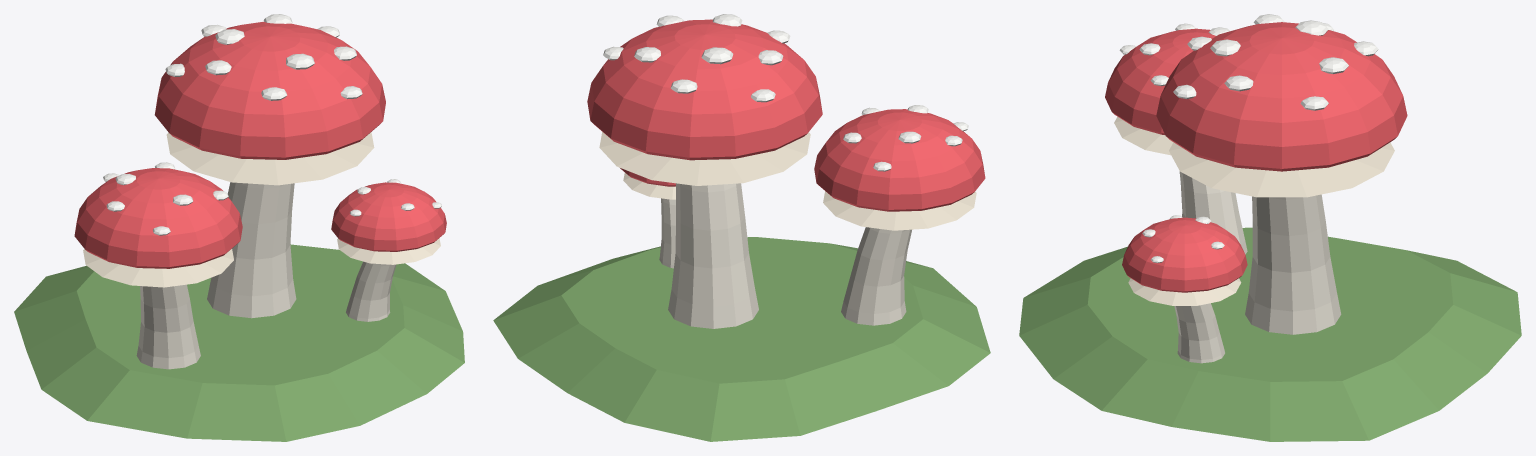
The model's file is BouncyMushroomCluster.fbx.
3 views of the same model, side by side, from view 1: azimuth 30°, elevation 25°; view 2: azimuth 150°, elevation 25°; view 3: azimuth 270°, elevation 25° (orthographic). The views are drawn at different scales.
Visible parts, largest first — view 1: Mushroom_BaseMound, Mushroom_Large_Cap, Mushroom_Medium_Cap, Mushroom_Large_Stem, Mushroom_Small_Cap, Mushroom_Large_Gills, Mushroom_Medium_Stem, Mushroom_Medium_Gills, Mushroom_Large_Spots, Mushroom_Small_Stem, Mushroom_Small_Gills, Mushroom_Medium_Spots; view 2: Mushroom_BaseMound, Mushroom_Large_Cap, Mushroom_Medium_Cap, Mushroom_Large_Stem, Mushroom_Medium_Stem, Mushroom_Large_Gills, Mushroom_Medium_Gills, Mushroom_Large_Spots, Mushroom_Medium_Spots, Mushroom_Small_Stem, Mushroom_Small_Gills; view 3: Mushroom_BaseMound, Mushroom_Large_Cap, Mushroom_Large_Stem, Mushroom_Small_Cap, Mushroom_Large_Gills, Mushroom_Medium_Cap, Mushroom_Large_Spots, Mushroom_Medium_Stem, Mushroom_Small_Stem, Mushroom_Small_Gills, Mushroom_Medium_Gills, Mushroom_Medium_Spots.
Part boxes in pixels (x1,y1,x2,y2): Mushroom_BaseMound: [14, 244, 464, 441]; Mushroom_Large_Cap: [154, 21, 385, 159]; Mushroom_Medium_Cap: [74, 168, 242, 268]; Mushroom_Large_Stem: [207, 182, 296, 318]; Mushroom_Small_Cap: [331, 182, 446, 251]; Mushroom_Large_Gills: [166, 132, 374, 185]; Mushroom_Medium_Stem: [136, 284, 200, 369]; Mushroom_Medium_Gills: [83, 249, 233, 287]; Mushroom_Large_Spots: [165, 14, 362, 100]; Mushroom_Small_Stem: [346, 261, 396, 321]; Mushroom_Small_Gills: [337, 238, 440, 264]; Mushroom_Medium_Spots: [103, 162, 228, 235]; Mushroom_BaseMound: [493, 237, 990, 441]; Mushroom_Large_Cap: [587, 19, 822, 160]; Mushroom_Medium_Cap: [814, 109, 985, 211]; Mushroom_Large_Stem: [668, 183, 758, 328]; Mushroom_Medium_Stem: [841, 227, 911, 325]; Mushroom_Large_Gills: [599, 132, 810, 185]; Mushroom_Medium_Gills: [823, 191, 976, 230]; Mushroom_Large_Spots: [603, 14, 790, 102]; Mushroom_Medium_Spots: [843, 105, 968, 171]; Mushroom_Small_Stem: [659, 198, 675, 268]; Mushroom_Small_Gills: [623, 172, 675, 199]; Mushroom_BaseMound: [1019, 227, 1521, 441]; Mushroom_Large_Cap: [1156, 22, 1407, 171]; Mushroom_Large_Stem: [1245, 194, 1341, 334]; Mushroom_Small_Cap: [1122, 217, 1247, 292]; Mushroom_Large_Gills: [1169, 142, 1394, 197]; Mushroom_Medium_Cap: [1105, 28, 1215, 134]; Mushroom_Large_Spots: [1173, 14, 1378, 110]; Mushroom_Medium_Stem: [1179, 171, 1247, 254]; Mushroom_Small_Stem: [1174, 303, 1224, 363]; Mushroom_Small_Gills: [1128, 278, 1241, 305]; Mushroom_Medium_Gills: [1114, 116, 1173, 155]; Mushroom_Medium_Spots: [1119, 23, 1229, 86].
Bounding box in the file's own units: 0.44 × 0.3045 × 0.44.
